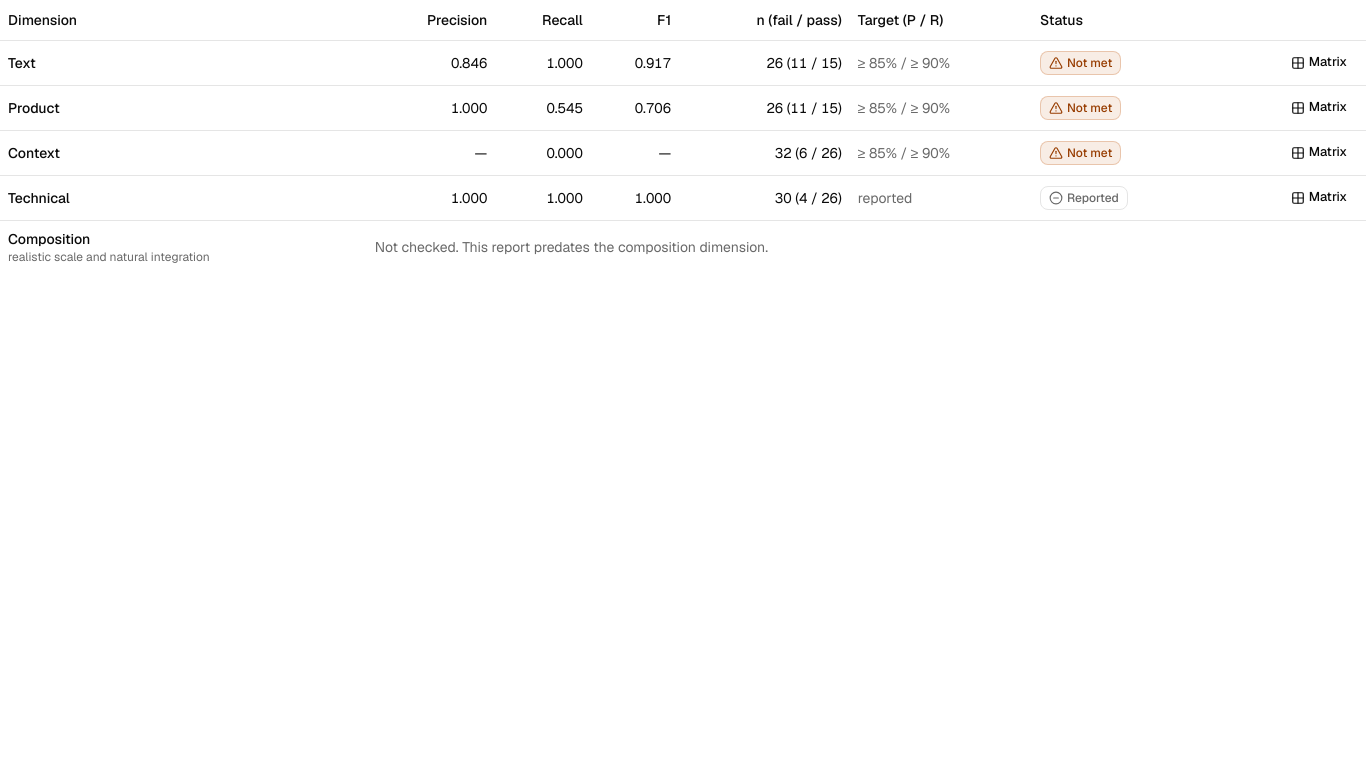
Test: PrecisionRecallTable › opens the confusion matrix with the positive class FAIL
Click the button with aria-label "Text confusion matrix" at (1319, 62), box [1280, 48, 1358, 76]
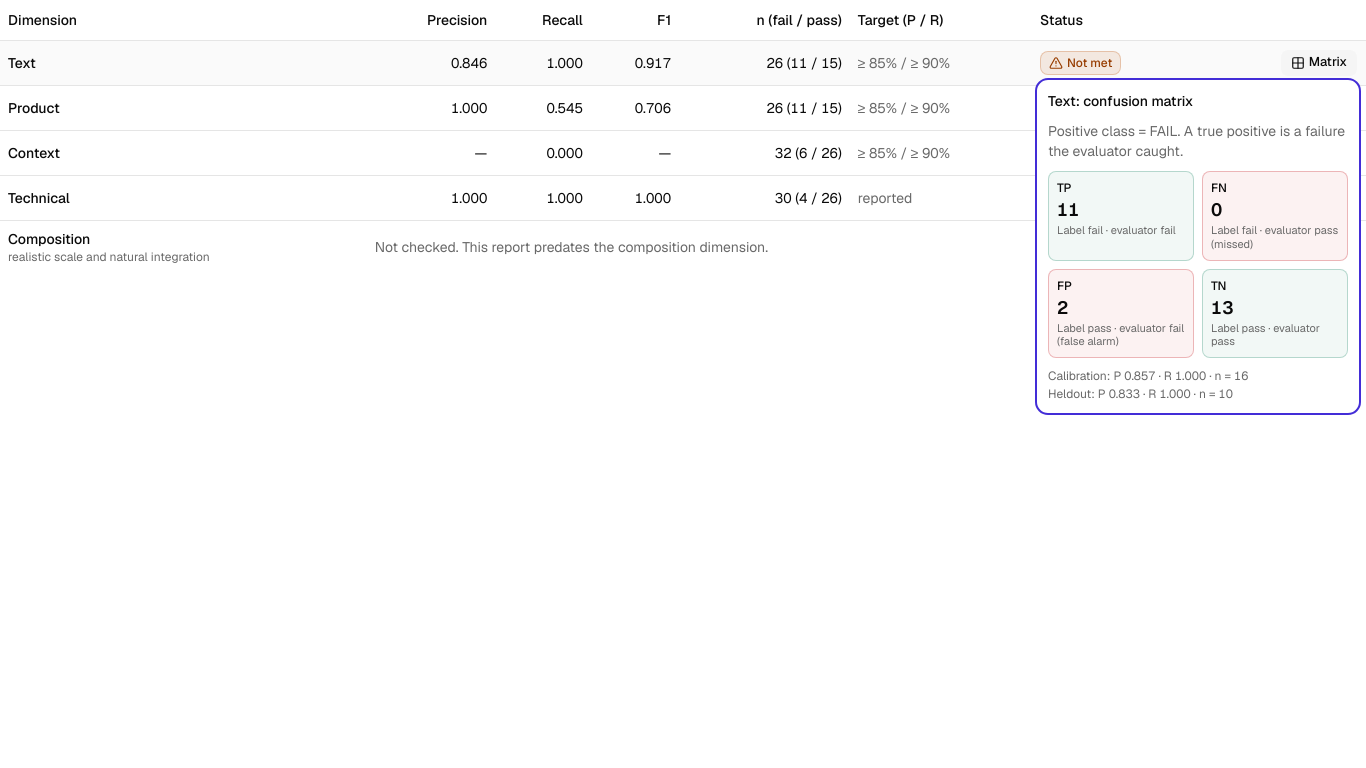
Now the text "Positive class = FAIL" is shown, box [1048, 122, 1345, 160]
Now the list item "calibration: P 0.857 · R 1.000 · n = 16" is shown, box [1048, 368, 1248, 384]
